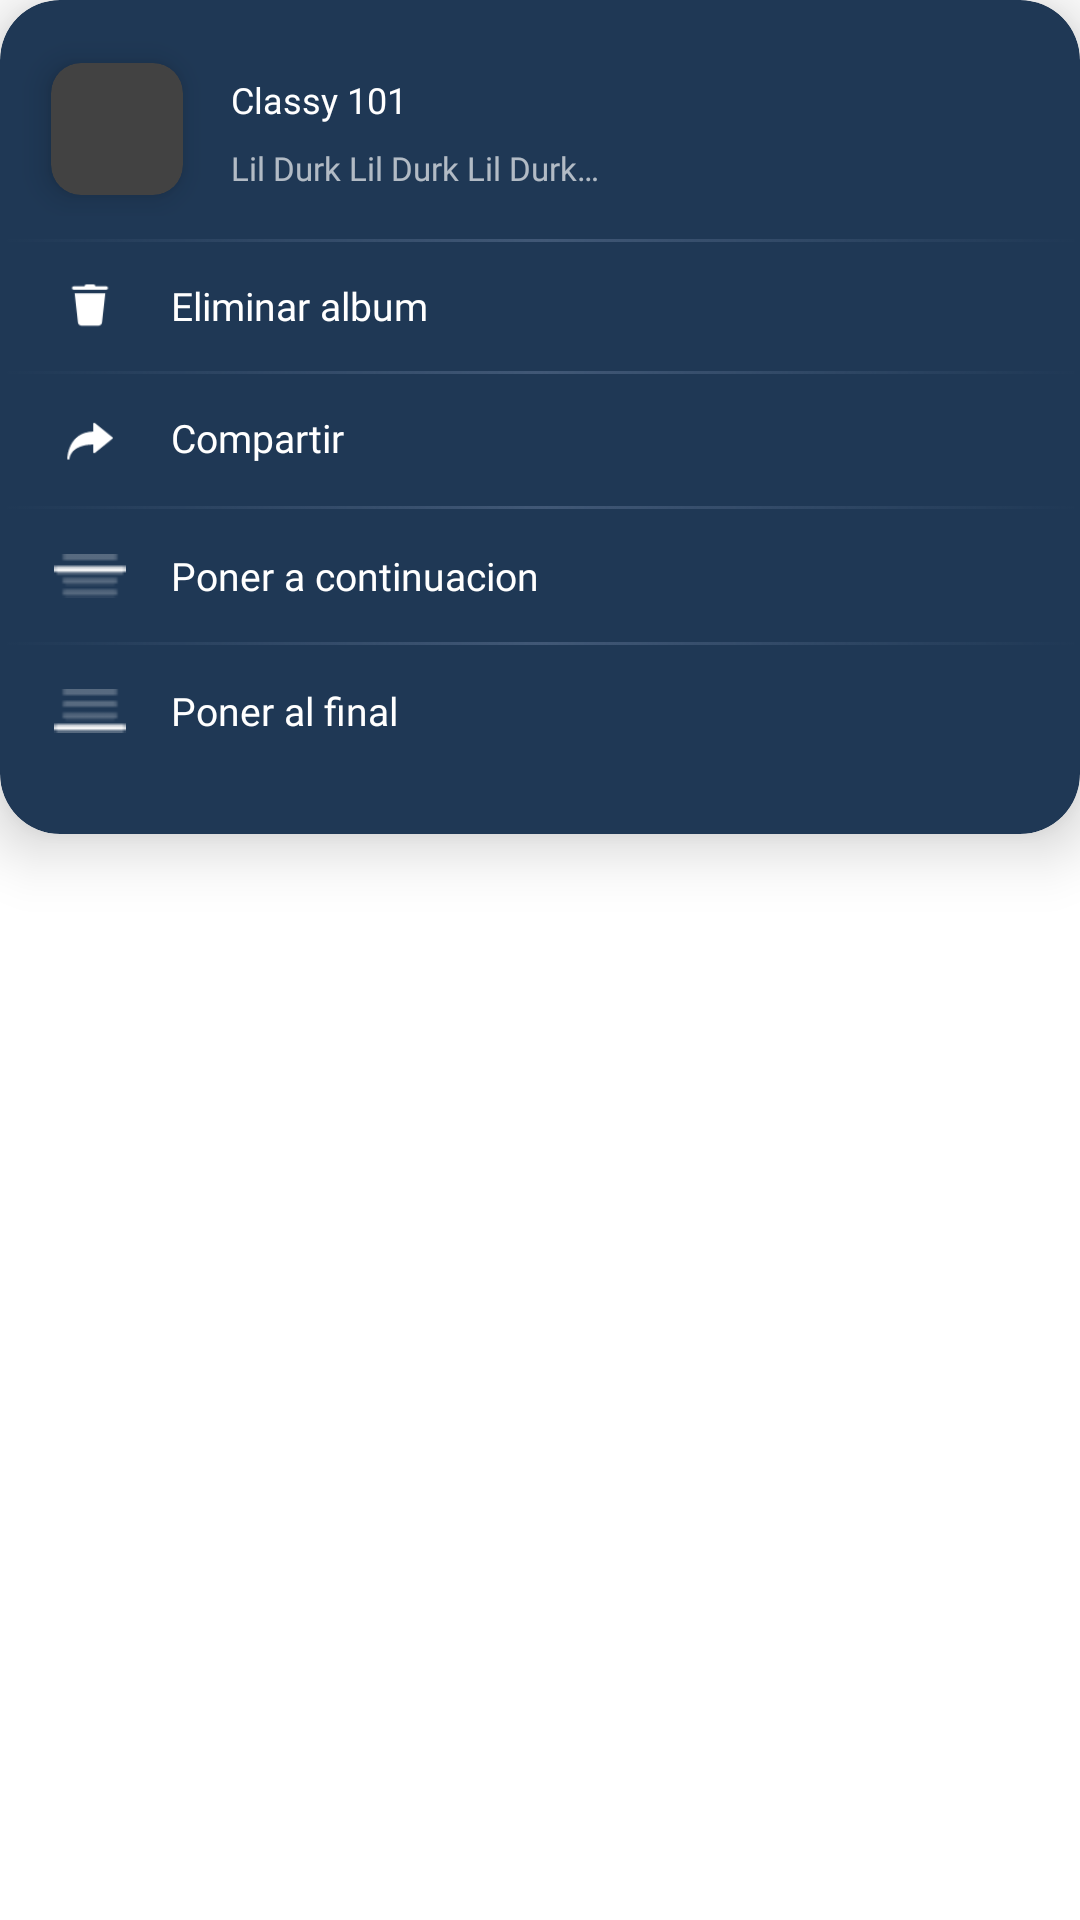

Screen size 1080 x 1920. Icon name, then its box in pixels as (x1,y1,x2,y2):
afterposition: (54,554,126,595)
forward arrow: (67,422,113,460)
lastposition: (54,689,126,733)
trash: (71,284,109,327)
